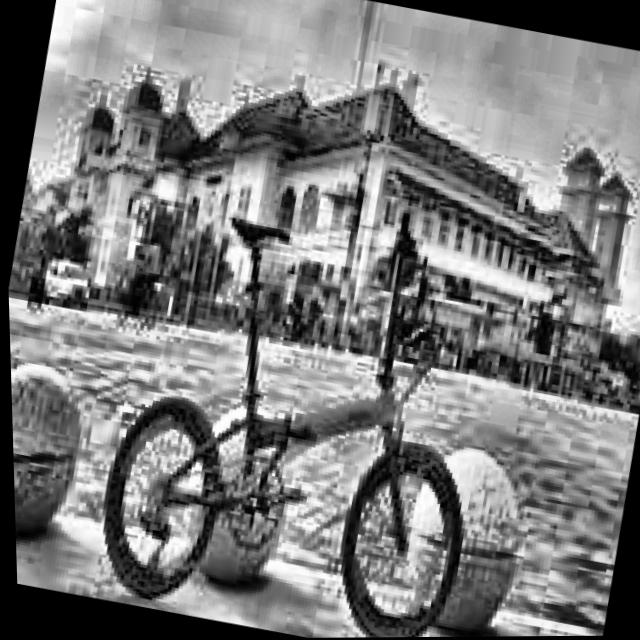motorcycle: (75, 168, 527, 640)
